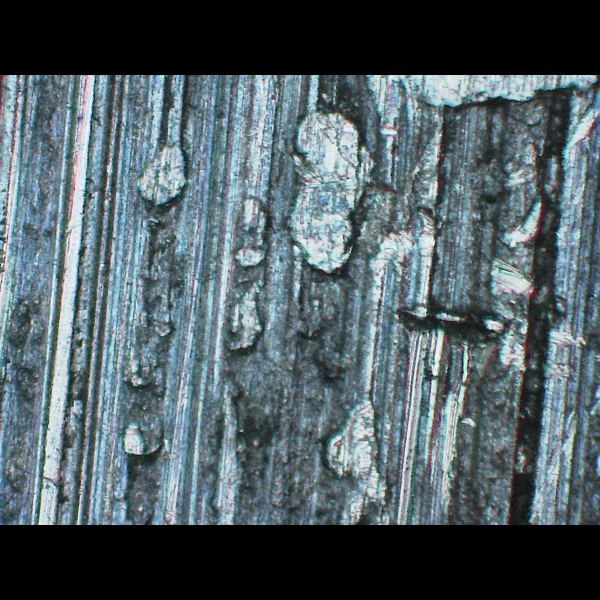d: (114, 215, 182, 462), (284, 99, 378, 277), (322, 391, 393, 509), (130, 137, 188, 208), (225, 192, 273, 277), (220, 281, 273, 351)
